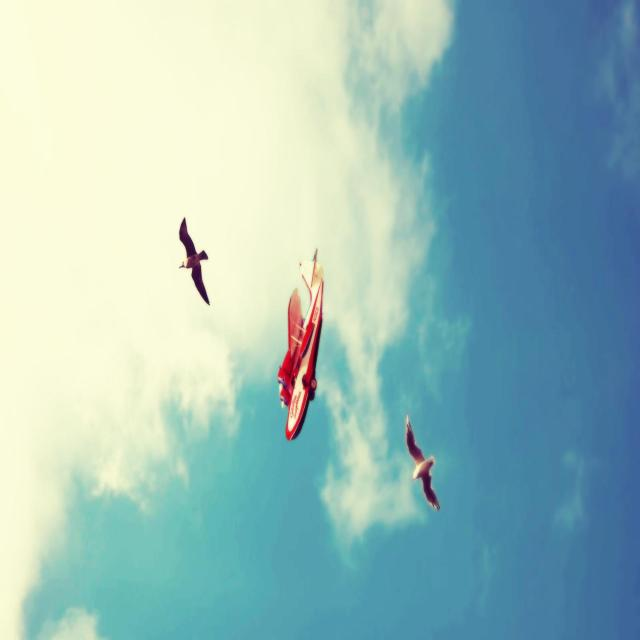airplane: (277, 247, 324, 440)
